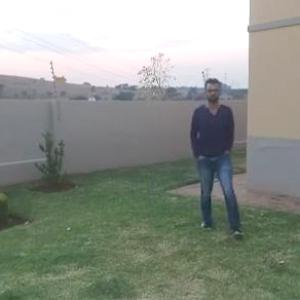follow: (189, 75, 239, 223)
